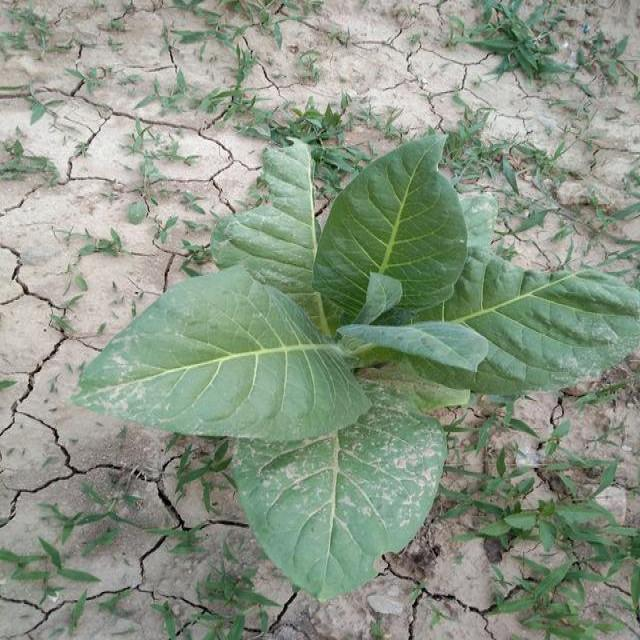crop: (77, 142, 640, 606)
